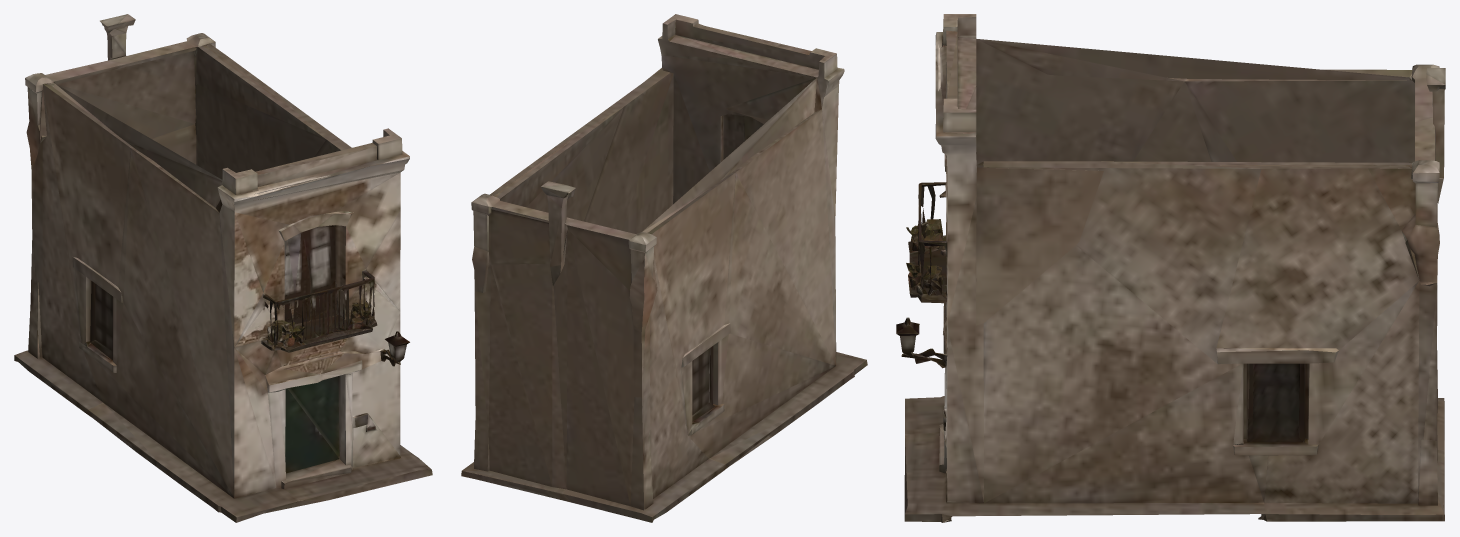
Rendered from casa-colonial-2.glb.
3 views of the same model, side by side, from view 1: azimuth 30°, elevation 25°; view 2: azimuth 150°, elevation 25°; view 3: azimuth 270°, elevation 25° (orthographic). The views are drawn at different scales.
Bounding box in the file's own units: 0.9369 × 1.46 × 1.82.
1 material, 1 textured.
